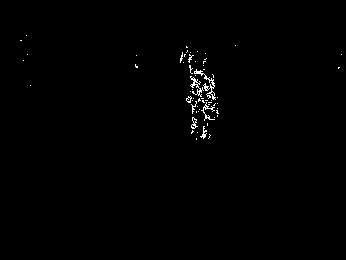person: (187, 63, 220, 141)
